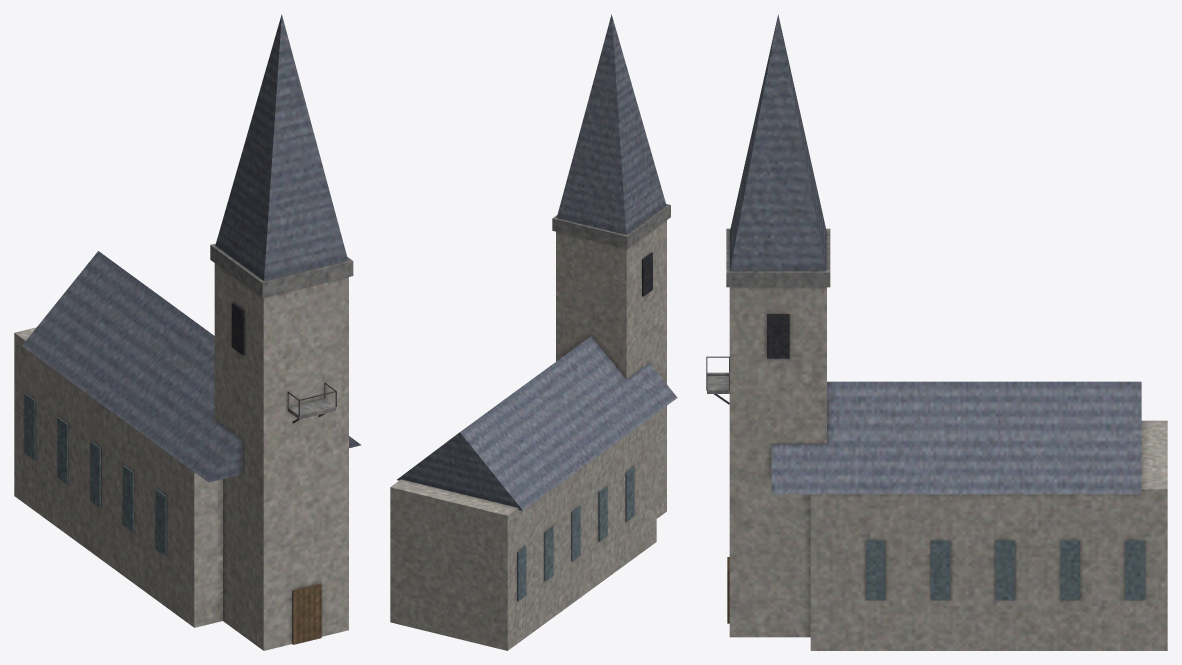
Rendered from SM_Church.fbx.
3 views of the same model, side by side, from view 1: azimuth 30°, elevation 25°; view 2: azimuth 150°, elevation 25°; view 3: azimuth 270°, elevation 25° (orthographic). The views are drawn at different scales.
Parts seen in each view (by area): view 1: SM_Church; view 2: SM_Church; view 3: SM_Church.
Boxes of the visible parts, x1,y1,x2,y2 form: SM_Church: (14,14,361,650); SM_Church: (390,14,677,650); SM_Church: (706,14,1167,650).
Size of what is drawn, in the model's own units: 1080 by 4100 by 2843.
Materials: 1 (1 with a texture image).
